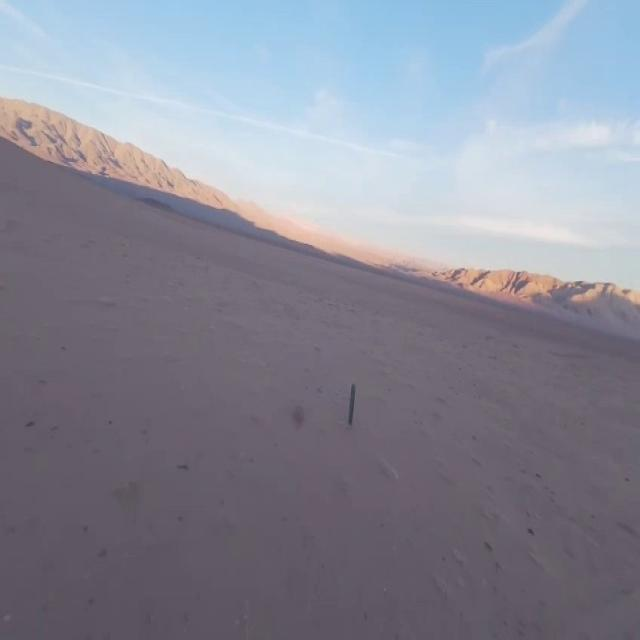Tire: (348, 383, 355, 426)
